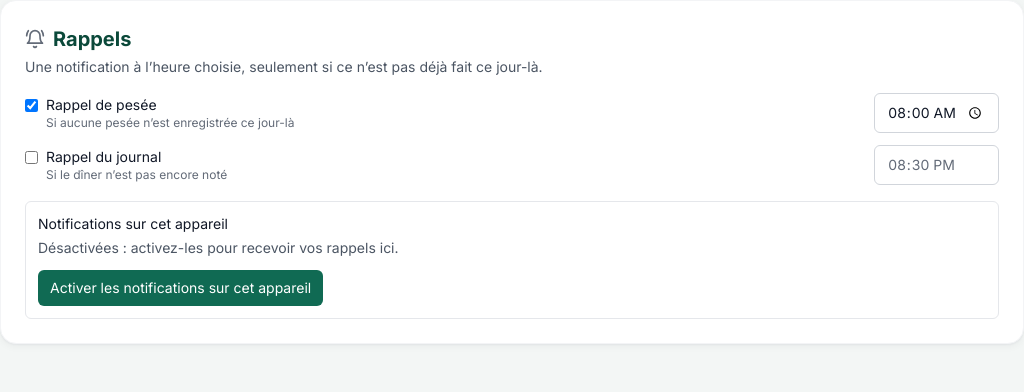
Test: RemindersSection › active les notifications sur cet appareil puis envoie un test
Click the button "Activer les notifications sur cet appareil".
click(181, 288)  # box [38, 270, 323, 306]
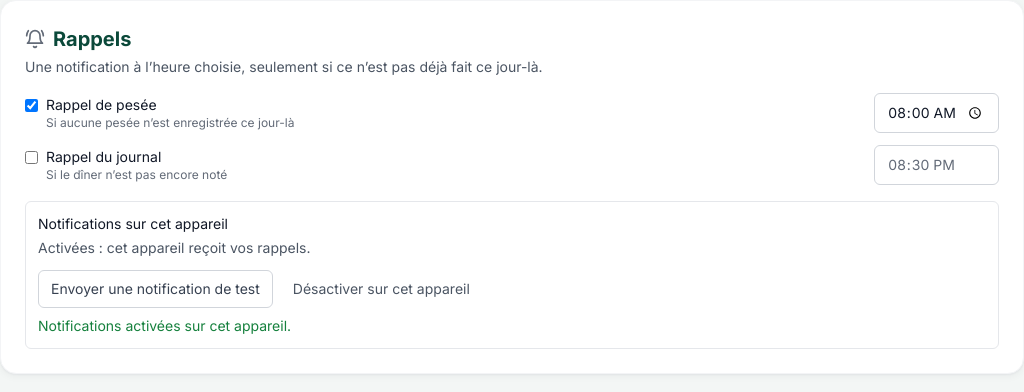
Check: the text "Notifications activées sur cet appareil." is shown, box [38, 317, 291, 334]
Click the button "Envoyer une notification de test".
click(155, 289)  # box [38, 270, 273, 308]
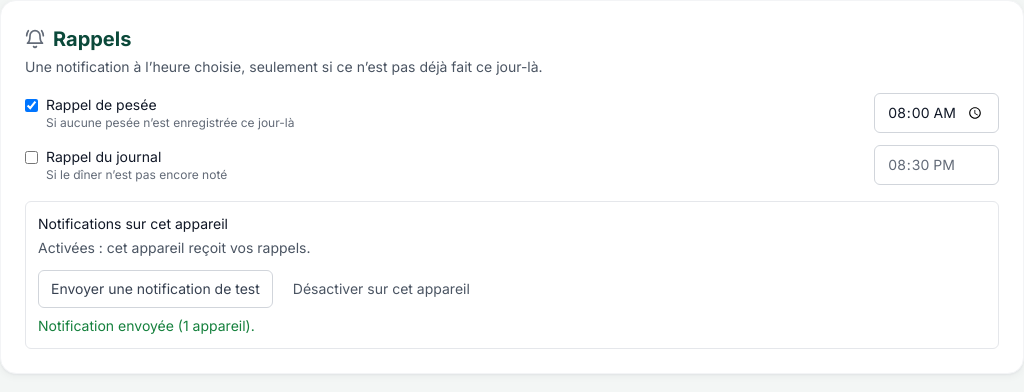
Check: the text "Notification envoyée (1 appareil)." is shown, box [38, 317, 255, 334]
